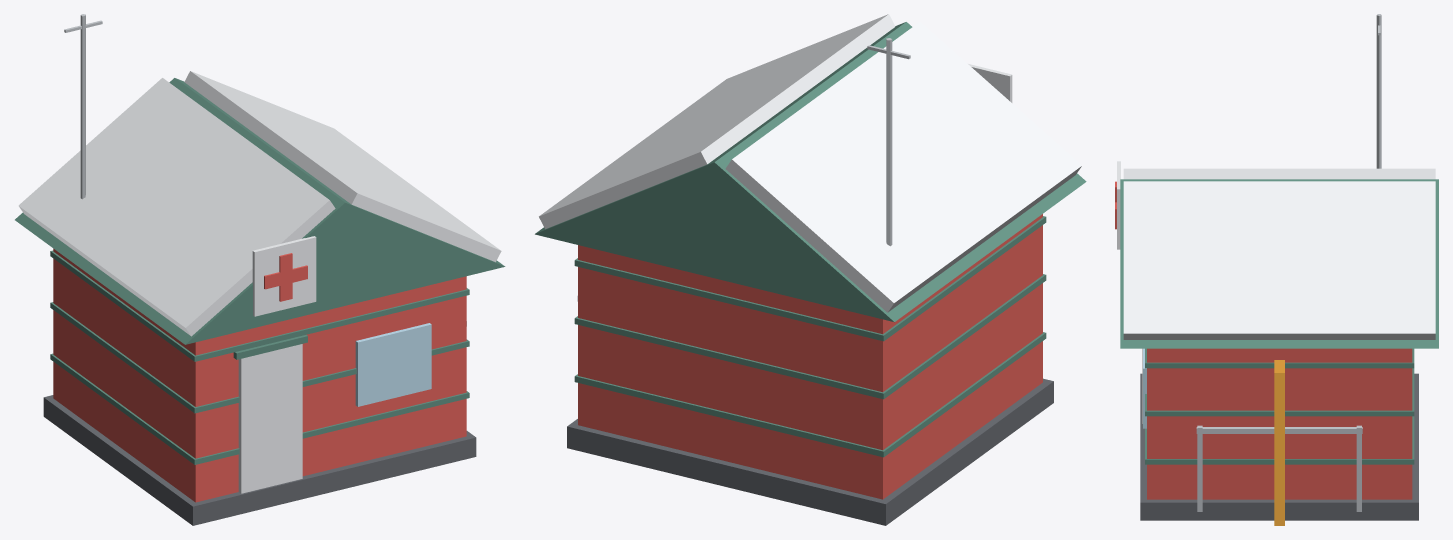
File: patrol.glb
3 views of the same model, side by side, from view 1: azimuth 30°, elevation 25°; view 2: azimuth 150°, elevation 25°; view 3: azimuth 270°, elevation 25° (orthographic). The views are drawn at different scales.
Visible parts, largest first — view 1: patrol-hut; view 2: patrol-hut; view 3: patrol-hut.
Part boxes in pixels (x1,y1,x2,y2): patrol-hut: (15, 14, 505, 525); patrol-hut: (535, 14, 1086, 525); patrol-hut: (1115, 14, 1438, 525).
Bounding box in the file's own units: 5.88 × 6.4 × 4.88.
